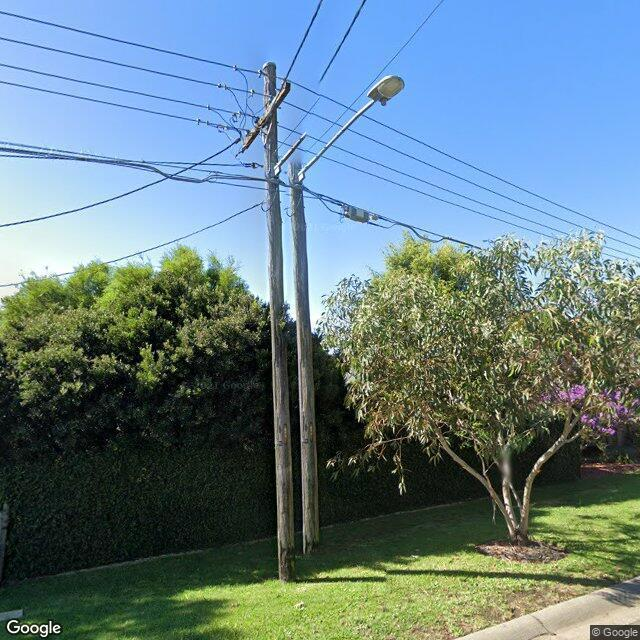crossarm: (238, 79, 292, 155)
streetlight: (275, 73, 404, 181)
timber-pole: (260, 63, 320, 581)
